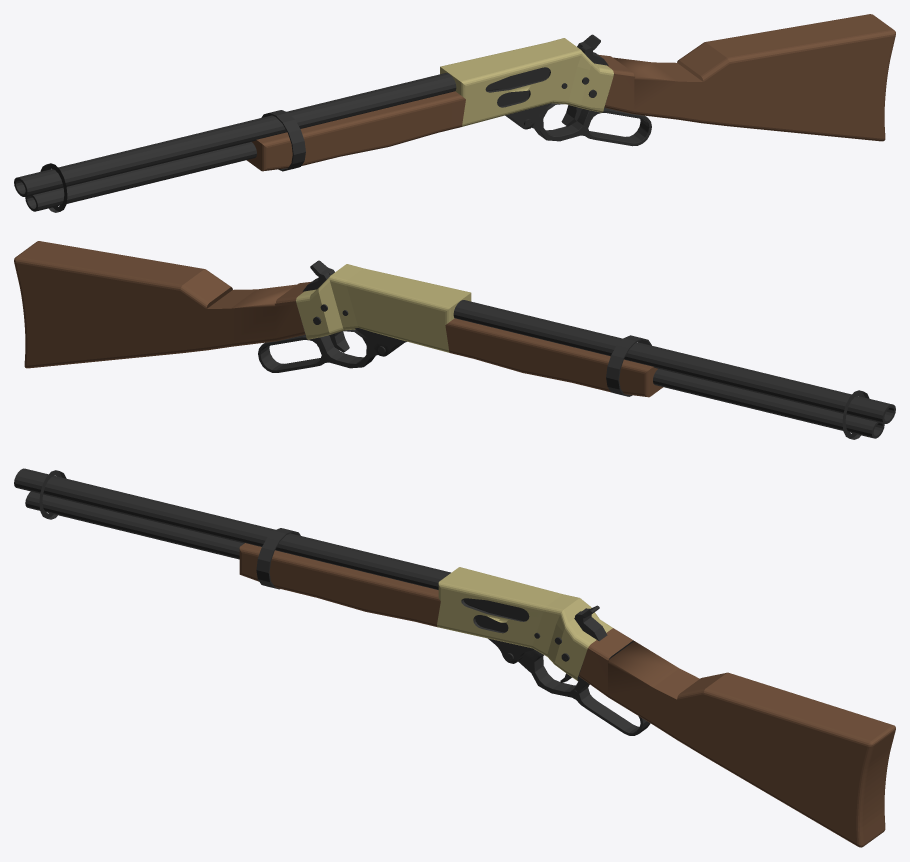
The model's file is rifle.fbx.
3 views of the same model, one above another, from view 1: azimuth 30°, elevation 25°; view 2: azimuth 150°, elevation 25°; view 3: azimuth 330°, elevation 25° (orthographic).
Visible parts, largest first — view 1: rifle; view 2: rifle; view 3: rifle.
Part boxes in pixels (box(x1,y1,x2,y2)): rifle: box(14, 14, 895, 212); rifle: box(14, 241, 895, 439); rifle: box(14, 468, 895, 847).
Size of the model in its own units: 179 by 33.16 by 12.63.
